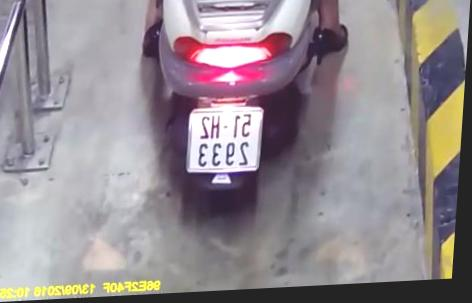License_Plate: (178, 103, 272, 177)
